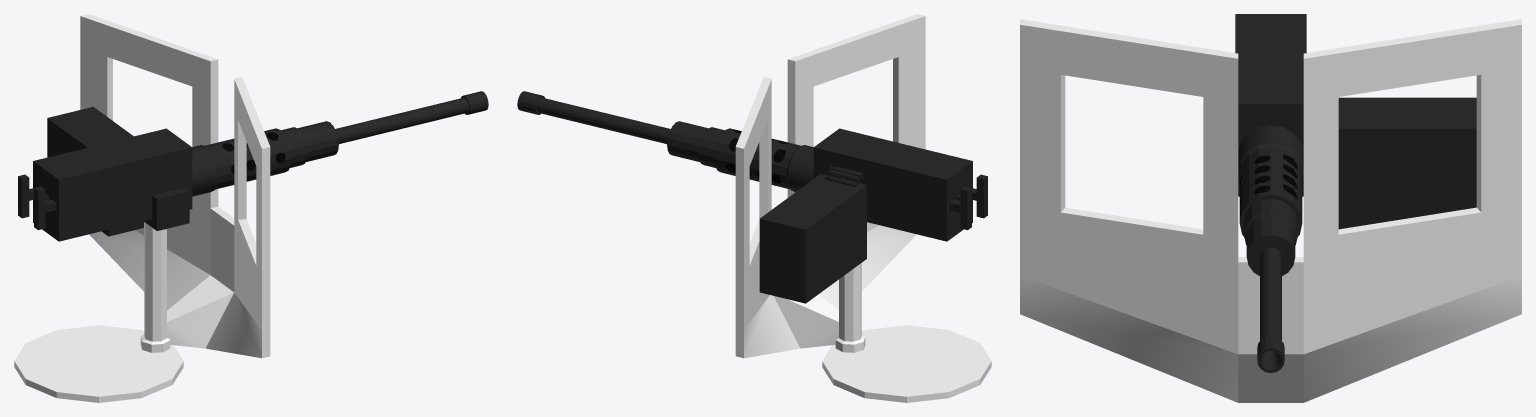
Rendered from Turret_09.fbx.
The picture shows the model from 3 angles, left to right: view 1: azimuth 30°, elevation 25°; view 2: azimuth 150°, elevation 25°; view 3: azimuth 270°, elevation 25°; orthographic projection. The views are drawn at different scales.
Visible parts, largest first — view 1: Turret_09_Shield, Turret_09_MainGun, Turret_09_LowerBody, Turret_09_Body; view 2: Turret_09_MainGun, Turret_09_Shield, Turret_09_LowerBody, Turret_09_Body; view 3: Turret_09_Shield, Turret_09_MainGun.
Part boxes in pixels (x1,y1,x2,y2): Turret_09_Shield: [80, 14, 270, 358]; Turret_09_MainGun: [18, 91, 488, 241]; Turret_09_LowerBody: [14, 325, 183, 402]; Turret_09_Body: [140, 222, 170, 352]; Turret_09_MainGun: [517, 91, 987, 303]; Turret_09_Shield: [735, 14, 925, 358]; Turret_09_LowerBody: [822, 325, 991, 402]; Turret_09_Body: [835, 263, 865, 352]; Turret_09_Shield: [1020, 19, 1521, 402]; Turret_09_MainGun: [1235, 14, 1476, 372].
Size of the model in its own units: 11.19 by 6.23 by 7.68.
